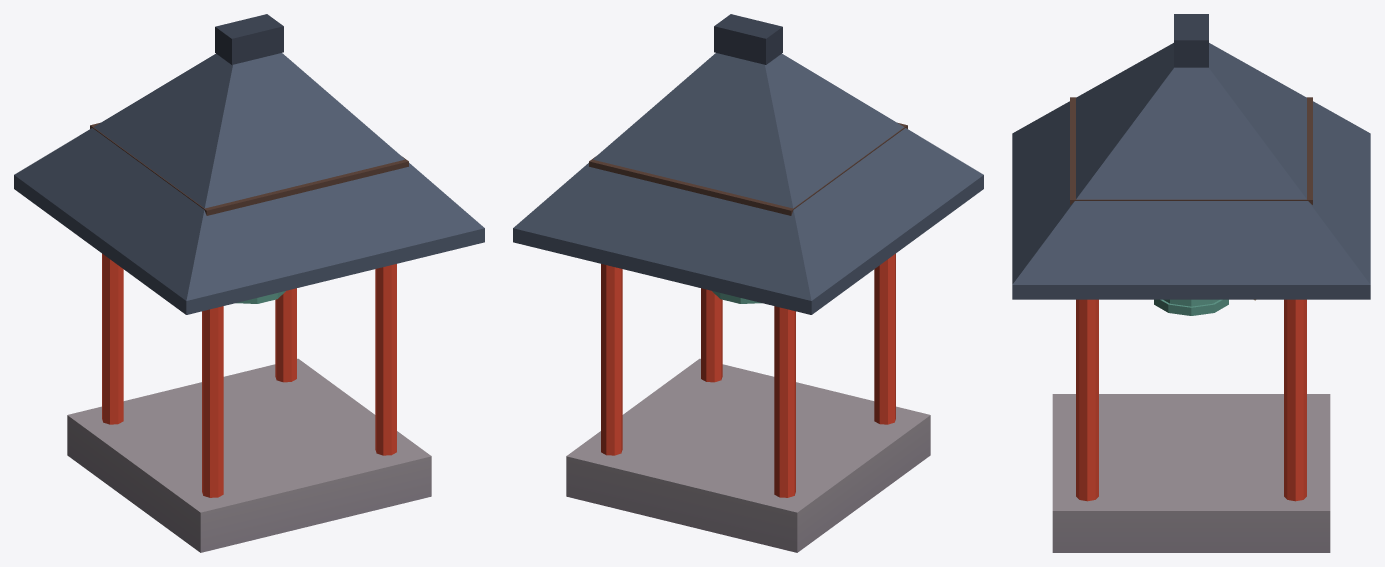
Rendered from shrine_bell.glb.
3 renders of one model, left to right at view 1: azimuth 30°, elevation 25°; view 2: azimuth 150°, elevation 25°; view 3: azimuth 270°, elevation 25°, orthographic. The views are drawn at different scales.
Parts seen in each view (by area): view 1: shrine_bell; view 2: shrine_bell; view 3: shrine_bell.
Part boxes in pixels (x1,y1,x2,y2): shrine_bell: (14, 14, 484, 552); shrine_bell: (513, 14, 983, 552); shrine_bell: (1012, 14, 1370, 552).
Size of the model in its own units: 3.1 by 4.46 by 3.1.
